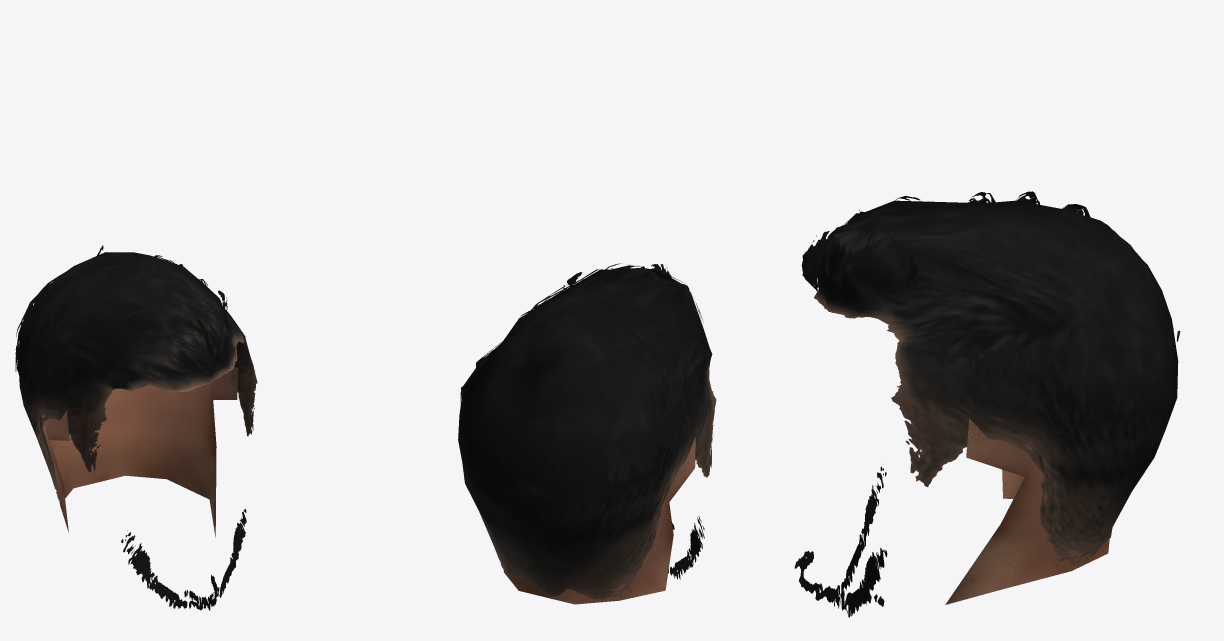
The model's file is prt-fernandes.glb.
3 views of the same model, side by side, from view 1: azimuth 30°, elevation 25°; view 2: azimuth 150°, elevation 25°; view 3: azimuth 270°, elevation 25° (orthographic). The views are drawn at different scales.
Visible parts, largest first — view 1: hair; view 2: hair; view 3: hair.
Boxes of the visible parts, bbox=[...] form: hair: bbox=[15, 245, 257, 610]; hair: bbox=[458, 263, 716, 604]; hair: bbox=[794, 191, 1180, 617].
Size of the model in its own units: 0.2435 by 0.4245 by 0.244.
Materials: 2 (2 with a texture image).
